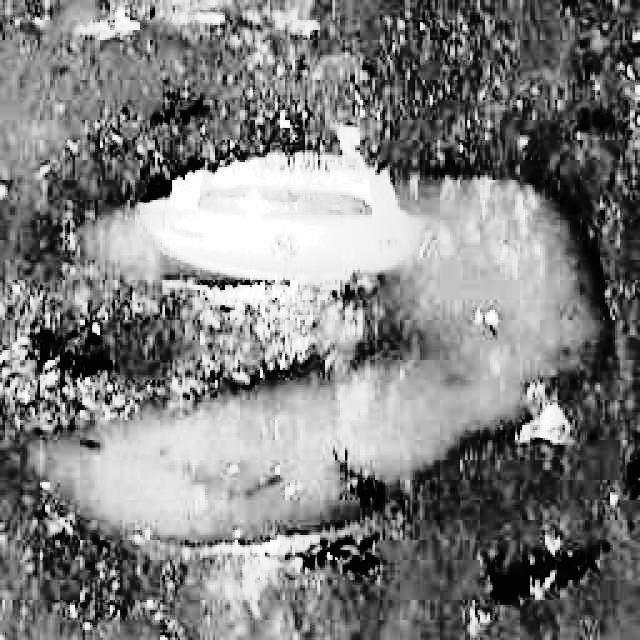Pothole: (18, 124, 627, 561)
